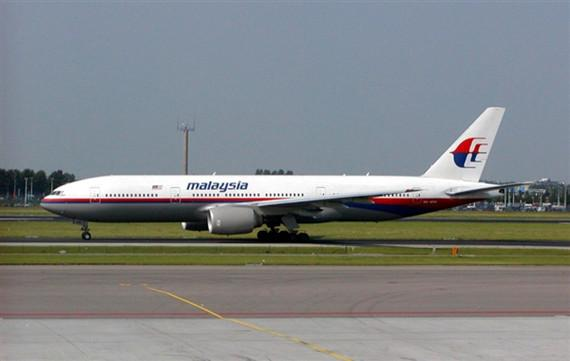airplane: (34, 101, 534, 240)
